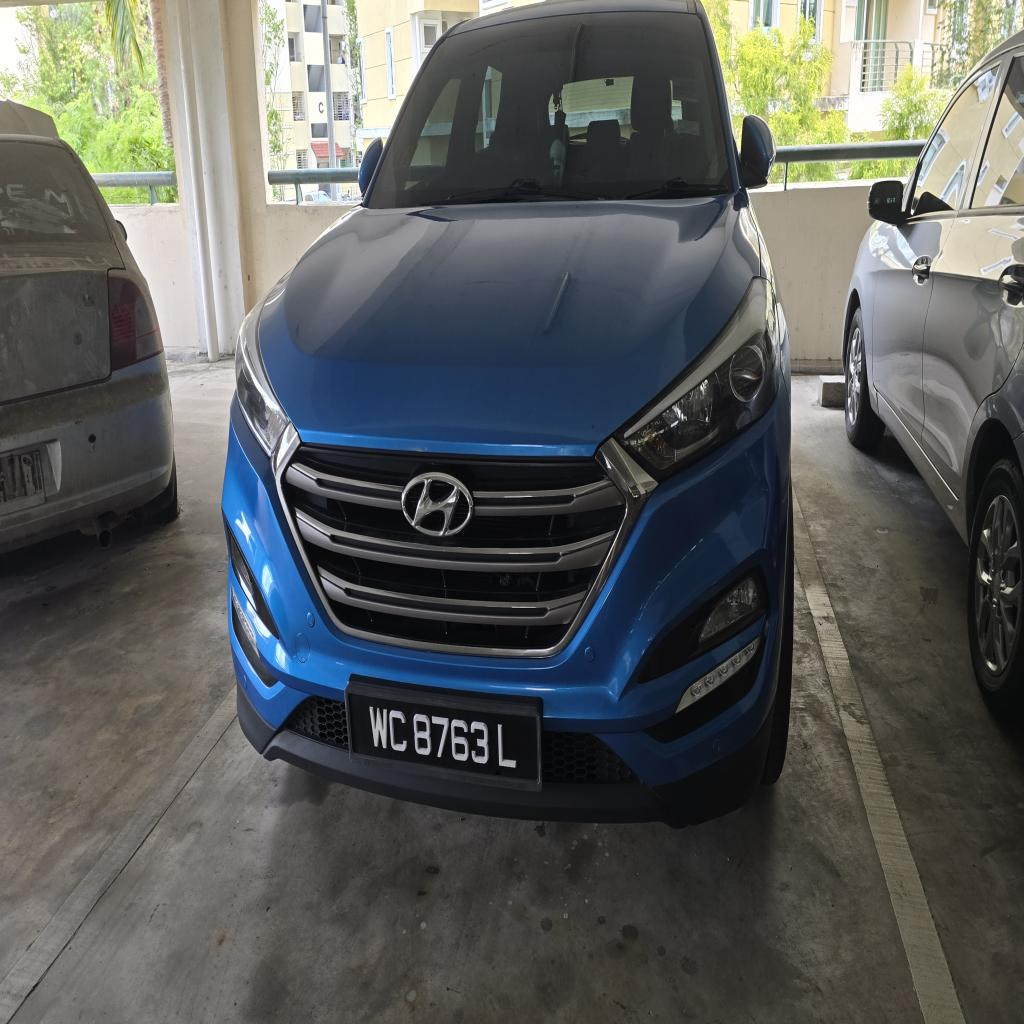car: (223, 0, 792, 824)
car plate: (346, 677, 541, 789)
